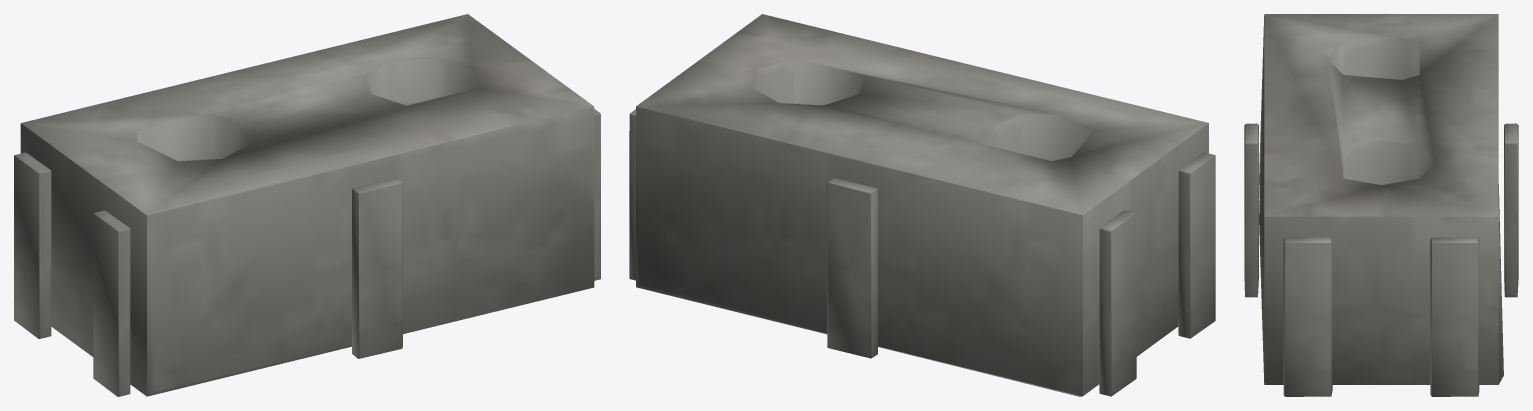
Rendered from PAV-BLQ-004_lod1.glb.
3 views of the same model, side by side, from view 1: azimuth 30°, elevation 25°; view 2: azimuth 150°, elevation 25°; view 3: azimuth 270°, elevation 25° (orthographic). The views are drawn at different scales.
Visible parts, largest first — view 1: PAV-BLQ-004_peca, PAV-BLQ-004_esp5, PAV-BLQ-004_esp0, PAV-BLQ-004_esp1, PAV-BLQ-004_esp3; view 2: PAV-BLQ-004_peca, PAV-BLQ-004_esp4, PAV-BLQ-004_esp0, PAV-BLQ-004_esp1, PAV-BLQ-004_esp2; view 3: PAV-BLQ-004_peca, PAV-BLQ-004_esp3, PAV-BLQ-004_esp2, PAV-BLQ-004_esp5, PAV-BLQ-004_esp4.
Part boxes in pixels (x1,y1,x2,y2): PAV-BLQ-004_peca: (20,14,594,396); PAV-BLQ-004_esp5: (352,178,402,358); PAV-BLQ-004_esp0: (14,152,51,338); PAV-BLQ-004_esp1: (93,210,130,396); PAV-BLQ-004_esp3: (594,109,600,280); PAV-BLQ-004_peca: (636,14,1208,396); PAV-BLQ-004_esp4: (827,178,877,358); PAV-BLQ-004_esp0: (1099,210,1136,396); PAV-BLQ-004_esp1: (1178,152,1215,338); PAV-BLQ-004_esp2: (629,109,635,280); PAV-BLQ-004_peca: (1259,14,1503,384); PAV-BLQ-004_esp3: (1283,237,1332,396); PAV-BLQ-004_esp2: (1430,237,1479,396); PAV-BLQ-004_esp5: (1244,123,1258,297); PAV-BLQ-004_esp4: (1504,123,1518,297).
Bounding box in the file's own units: 0.2117 × 0.08 × 0.112.
Materials: 1 (1 with a texture image).
